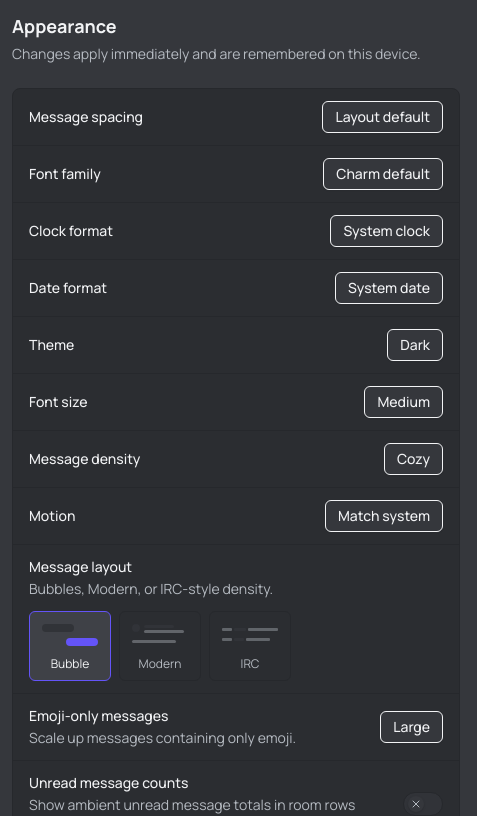
Test: AppearancePanel › discloses that IRC mode doesn't show read receipts yet, only when IRC is selected
This screenshot has width=477, height=816.
expect the text "doesn't show read receipts" is not shown: met
Click the button "IRC".
click(250, 646)  # box x1=209 y1=611 x2=291 y2=681
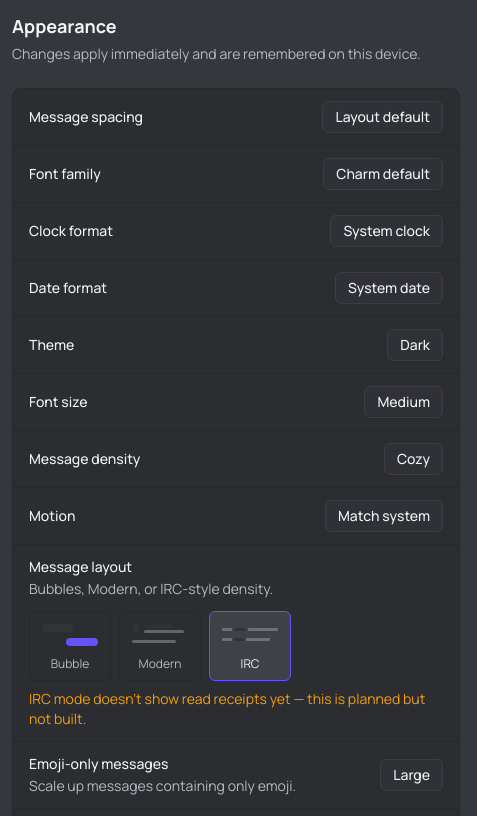
expect the text "doesn't show read receipts" is shown: met, box x1=29 y1=689 x2=425 y2=728
